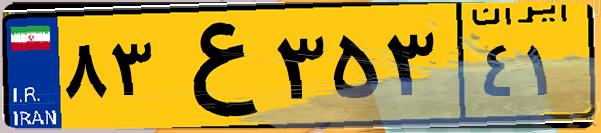1: (525, 38, 570, 115)
3: (270, 28, 330, 110), (385, 28, 445, 110), (110, 28, 158, 98)
4: (475, 38, 525, 113)
5: (330, 28, 385, 110)
8: (57, 26, 110, 100)
ع: (158, 12, 270, 120)
